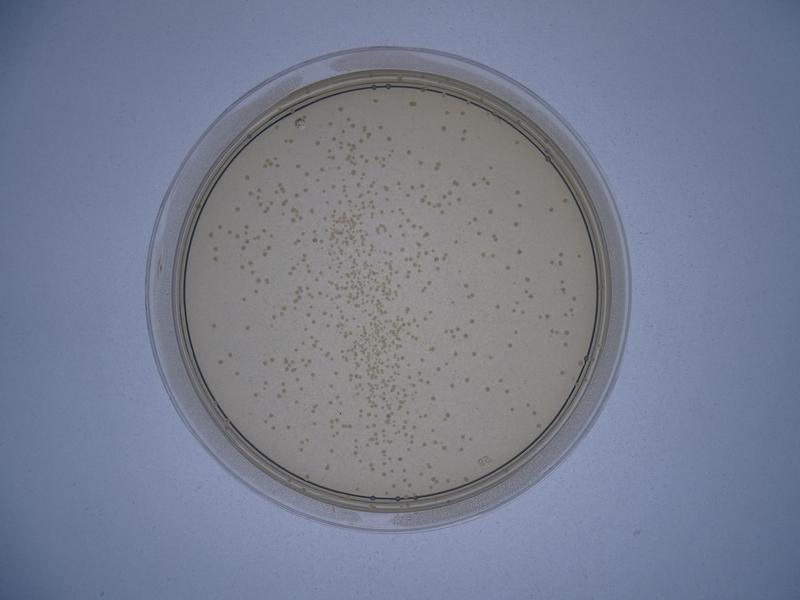colony: (207, 319, 220, 330), (467, 316, 478, 326), (403, 147, 415, 156), (439, 124, 449, 133), (512, 186, 522, 195), (511, 218, 519, 229), (238, 293, 247, 302), (515, 246, 523, 256), (556, 367, 564, 377), (243, 323, 252, 331), (506, 340, 514, 349), (462, 375, 471, 383), (451, 235, 460, 243), (428, 393, 437, 401), (216, 357, 224, 366), (294, 161, 301, 171), (309, 369, 316, 379), (469, 180, 476, 189), (503, 263, 509, 271), (493, 303, 501, 309), (308, 206, 314, 213)
